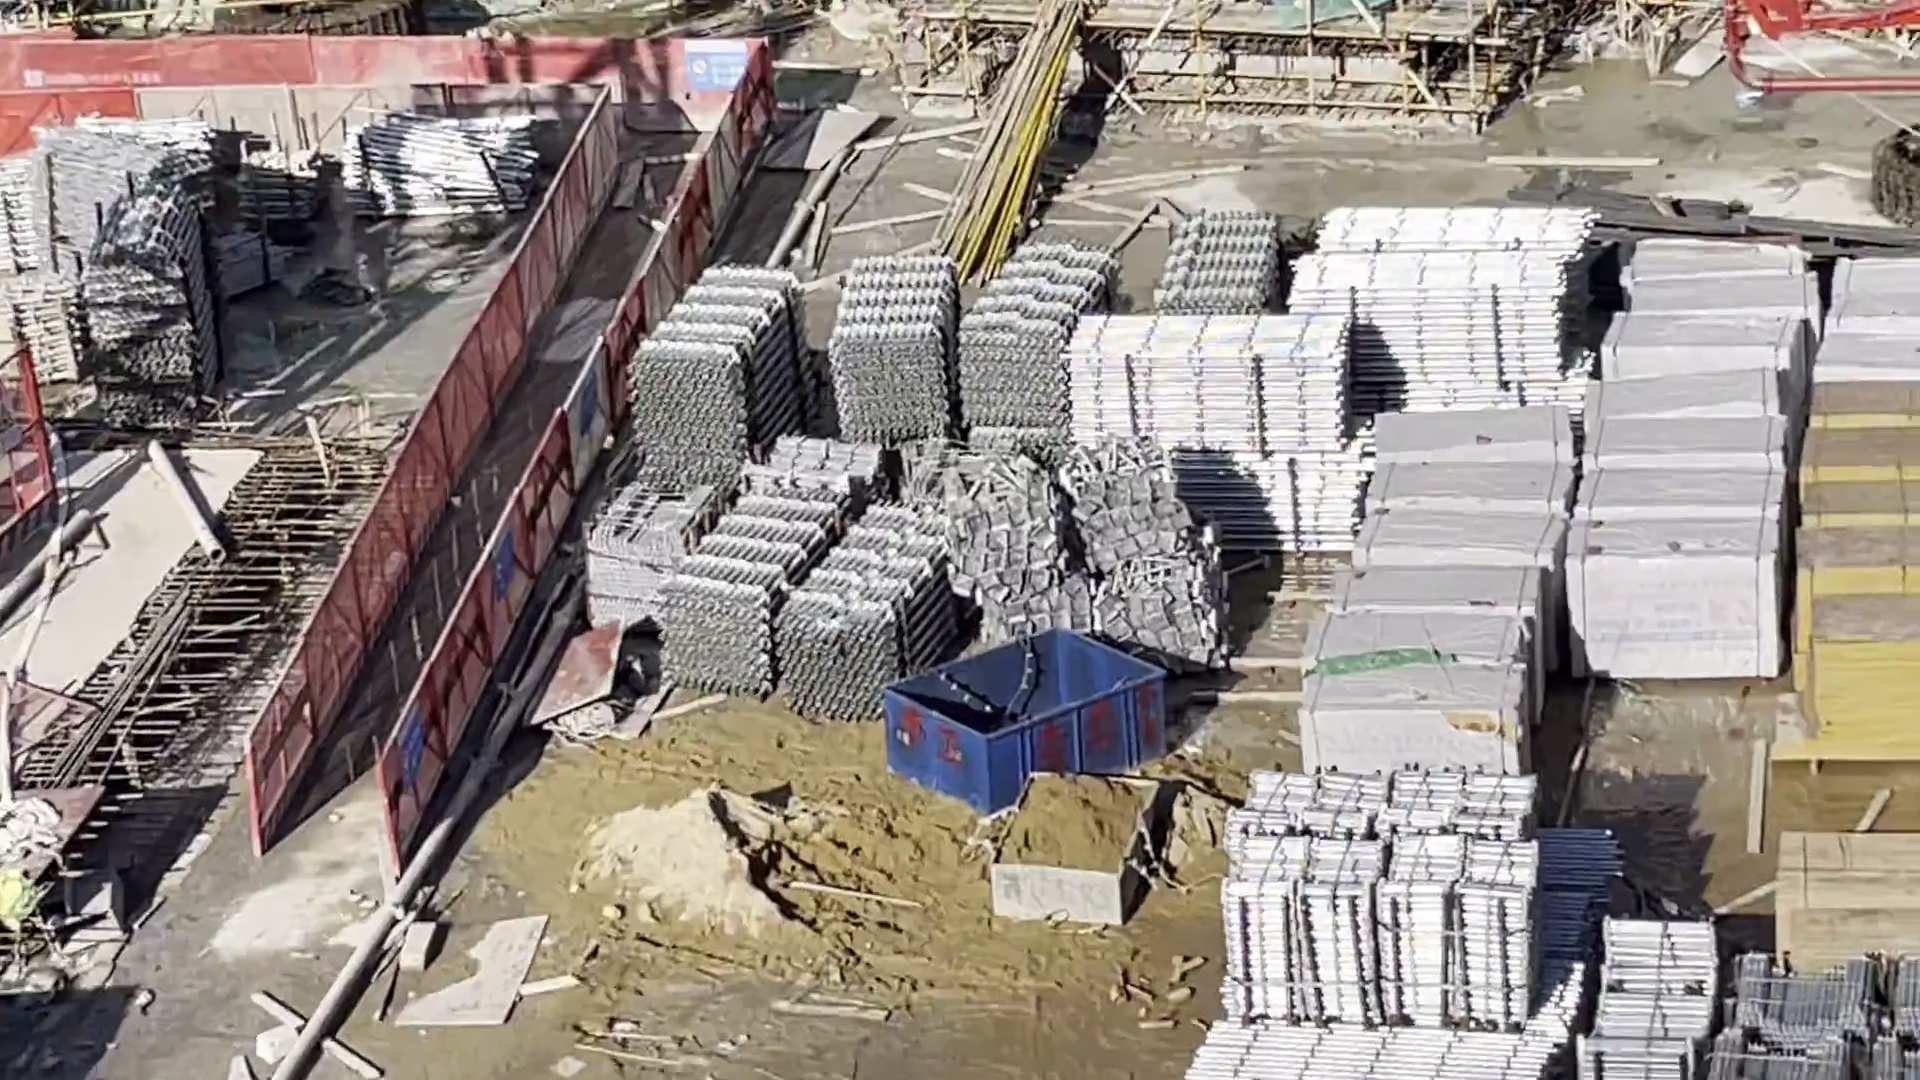board: (1782, 380, 1920, 757), (1778, 833, 1920, 953)
fence: (252, 109, 771, 811), (7, 36, 670, 171)
hopper: (885, 634, 1167, 804), (992, 767, 1162, 916)
rebar: (1536, 175, 1912, 260)
scaffold: (1226, 767, 1540, 1014), (1067, 319, 1361, 545), (665, 497, 951, 708), (833, 245, 1116, 435), (1294, 218, 1596, 384), (638, 261, 811, 488), (82, 196, 215, 423), (1725, 947, 1911, 1080), (1578, 909, 1713, 1080), (1189, 1019, 1553, 1080), (8, 116, 200, 225), (347, 131, 542, 216), (1158, 210, 1280, 320), (239, 150, 316, 212)
slogan: (686, 38, 750, 95), (400, 702, 425, 785), (492, 524, 509, 603)
